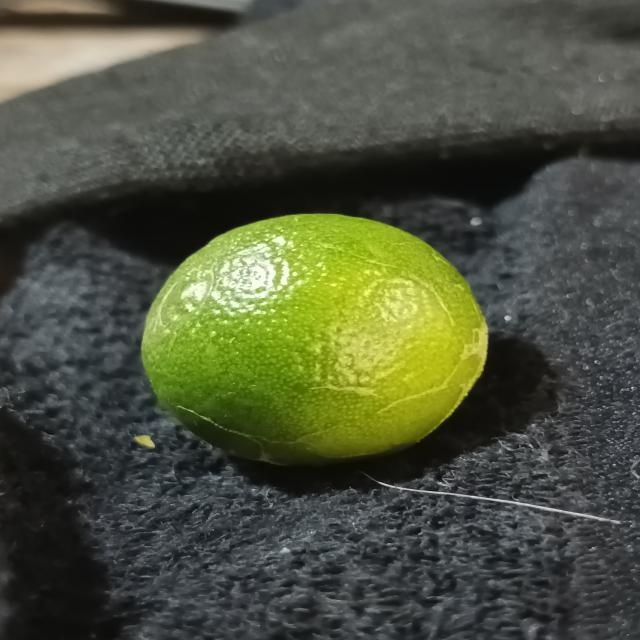thrips: (140, 214, 490, 468)
